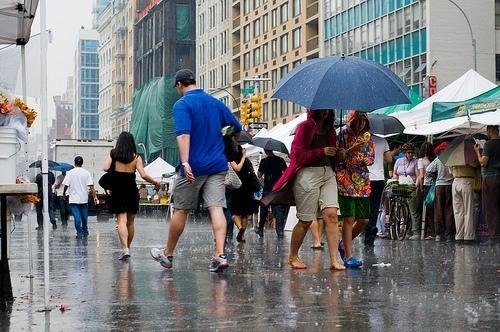bicycle: (388, 196, 412, 240)
truck: (50, 140, 118, 195)
